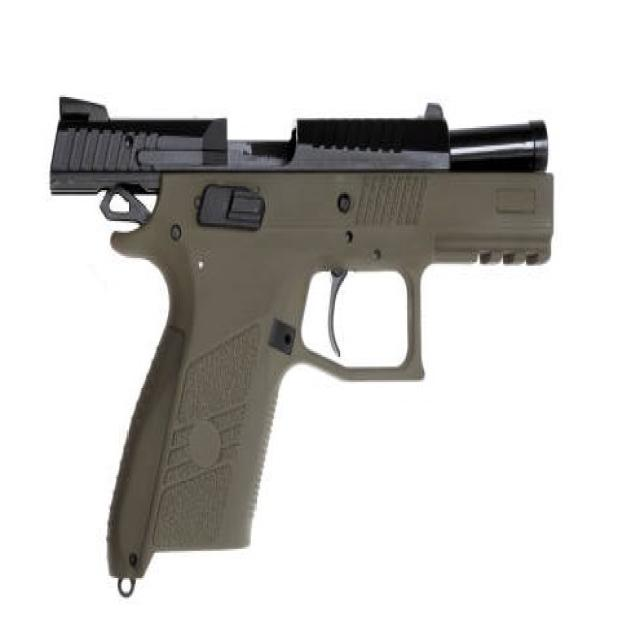pistol: (43, 86, 570, 606)
